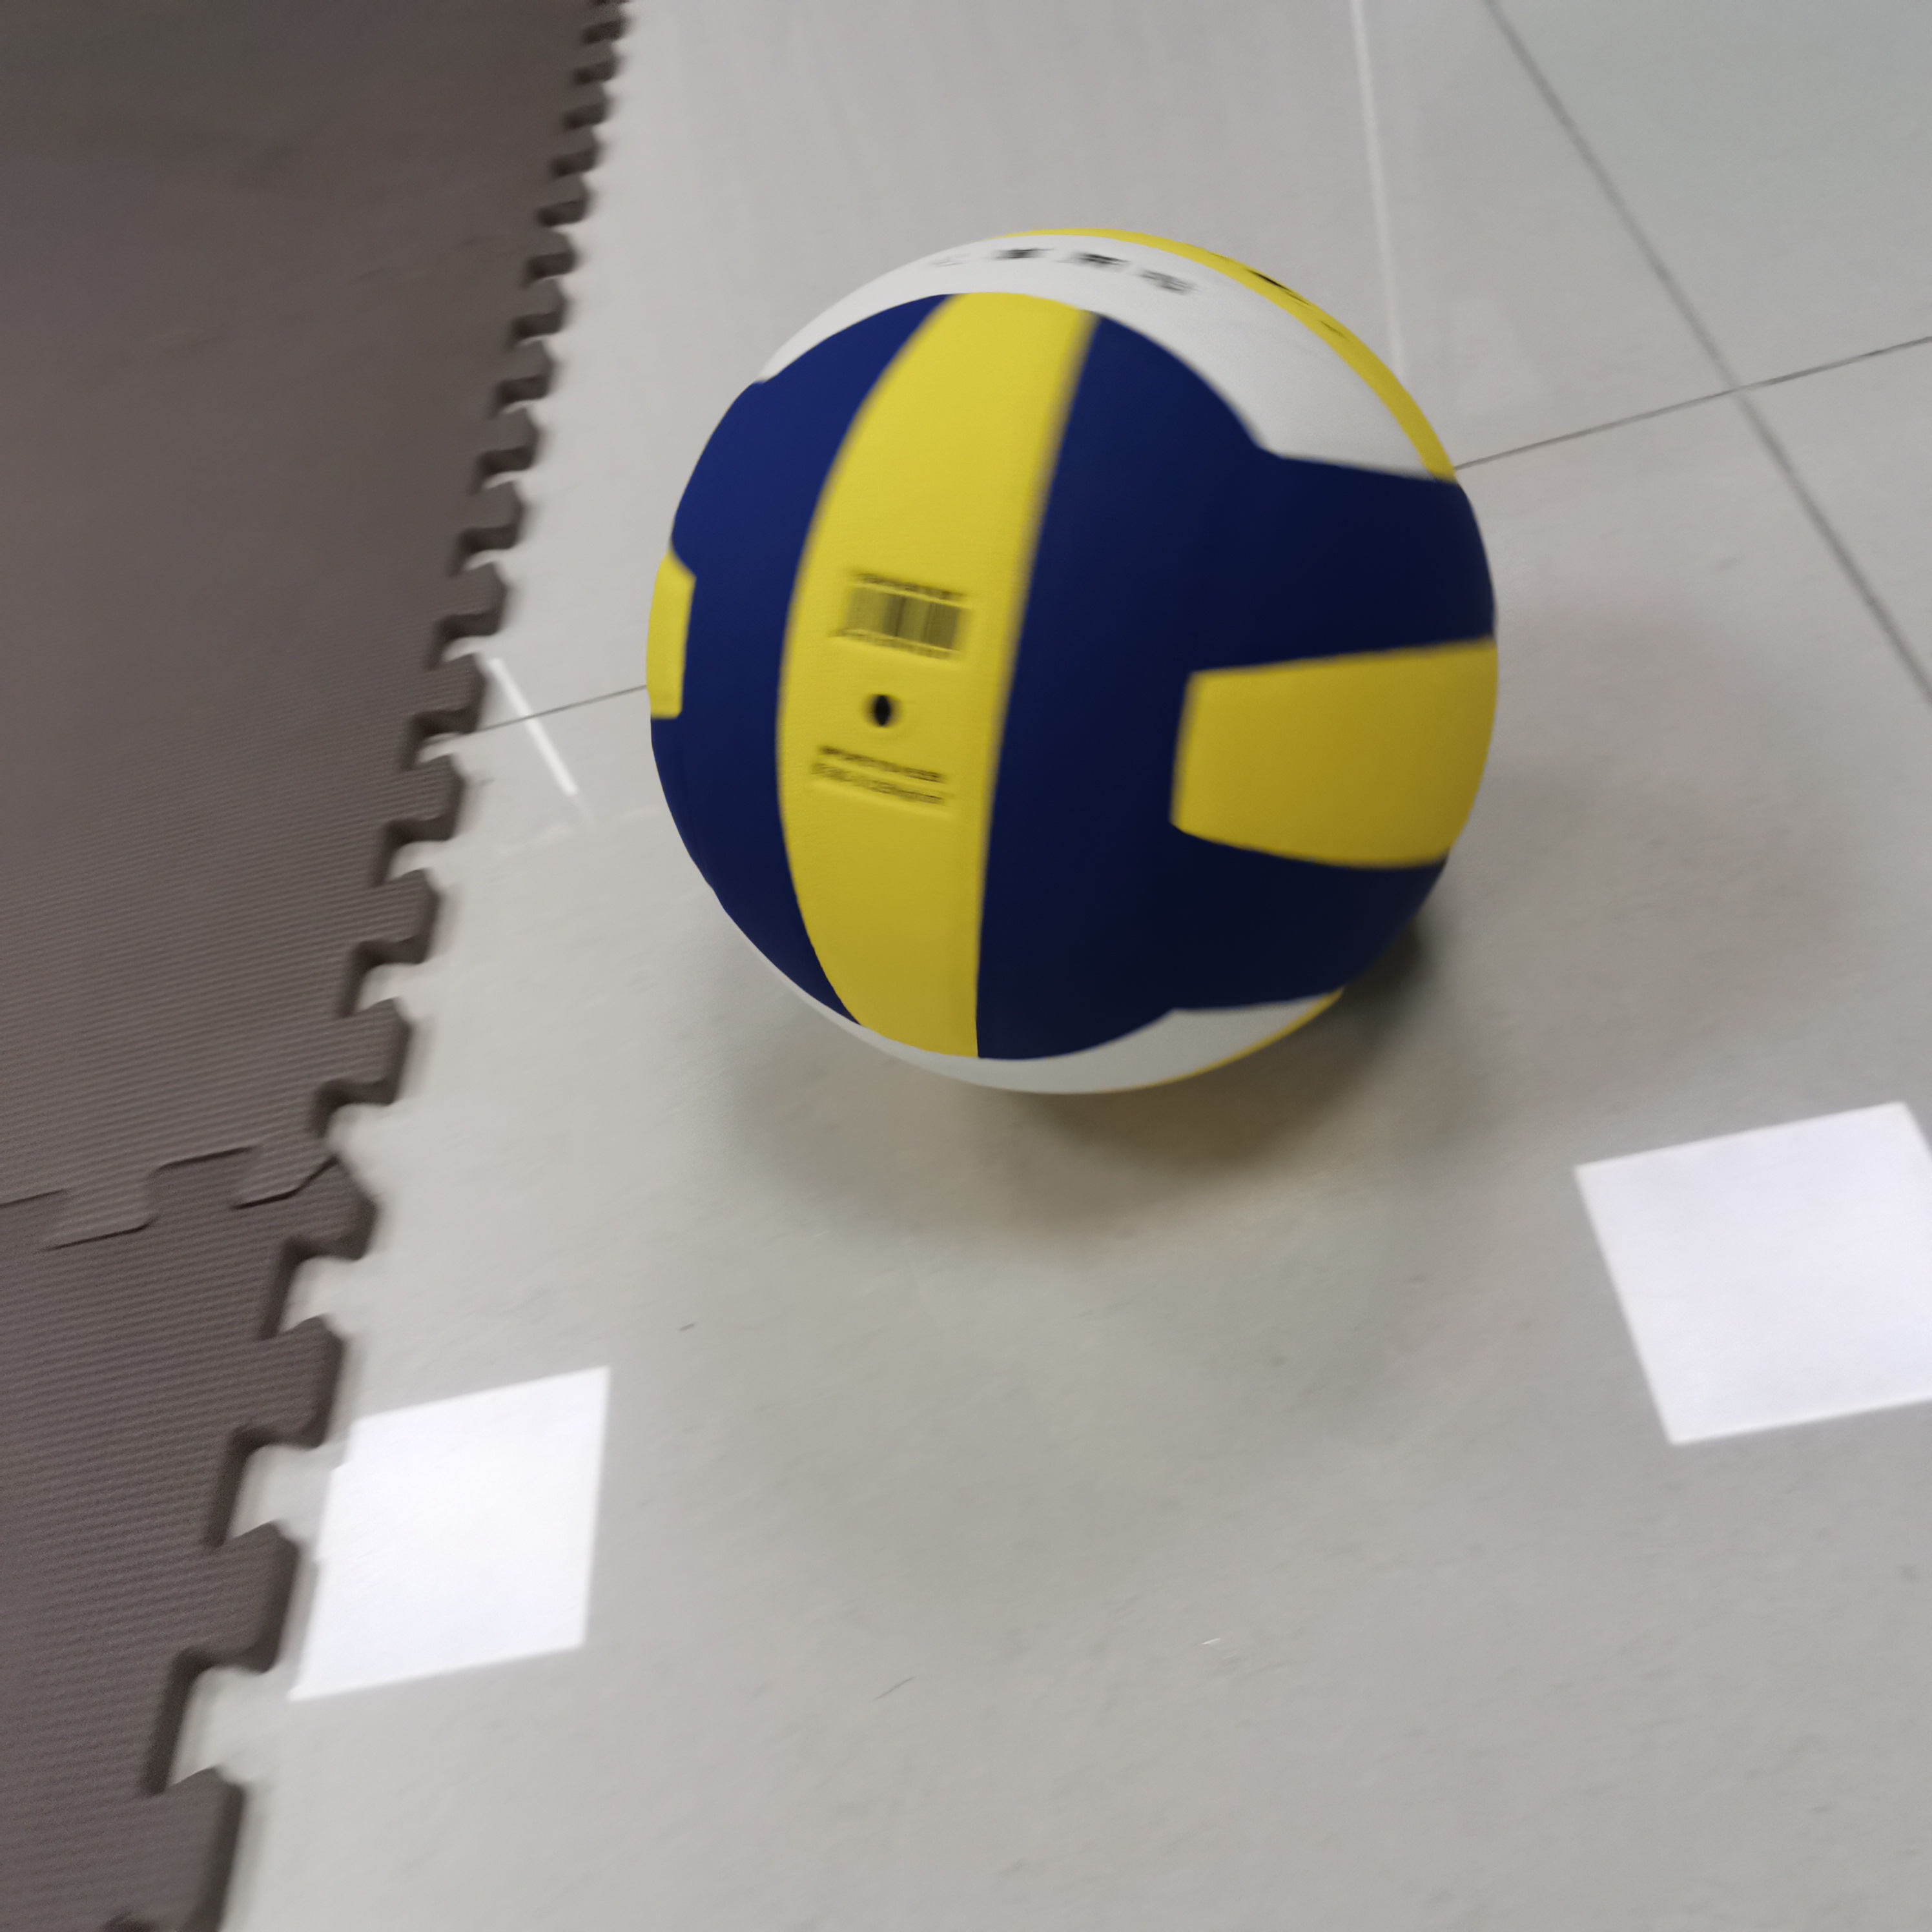volleyball: (646, 228, 1509, 1108)
